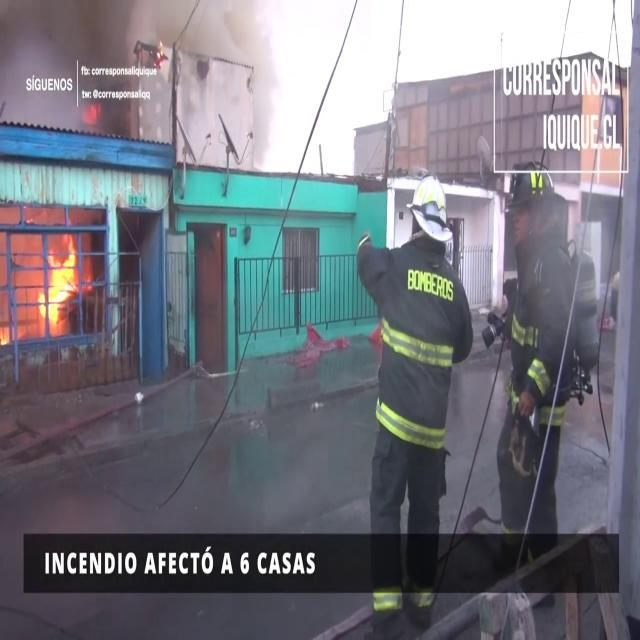Fire: (34, 232, 84, 332)
Smoke: (0, 0, 295, 162)
